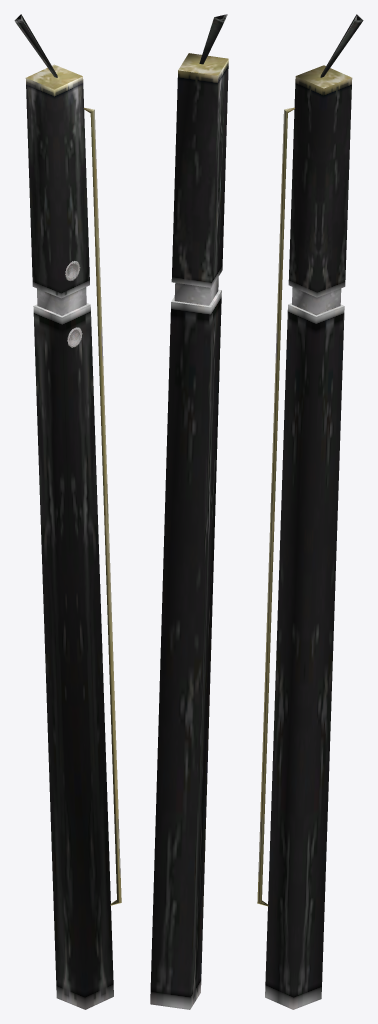
Rendered from eqp_music_fizz_l1.fbx.
3 views of the same model, side by side, from view 1: azimuth 90°, elevation 25°; view 2: azimuth 210°, elevation 25°; view 3: azimuth 270°, elevation 25° (orthographic). The views are drawn at different scales.
Parts seen in each view (by area): view 1: mesh_node; view 2: mesh_node; view 3: mesh_node.
Boxes of the visible parts, box(x1,y1,x2,y2) form: mesh_node: box(14, 14, 121, 1009); mesh_node: box(150, 14, 228, 1009); mesh_node: box(257, 14, 363, 1009).
Bounding box in the file's own units: 0.0409 × 0.6245 × 0.0615.
